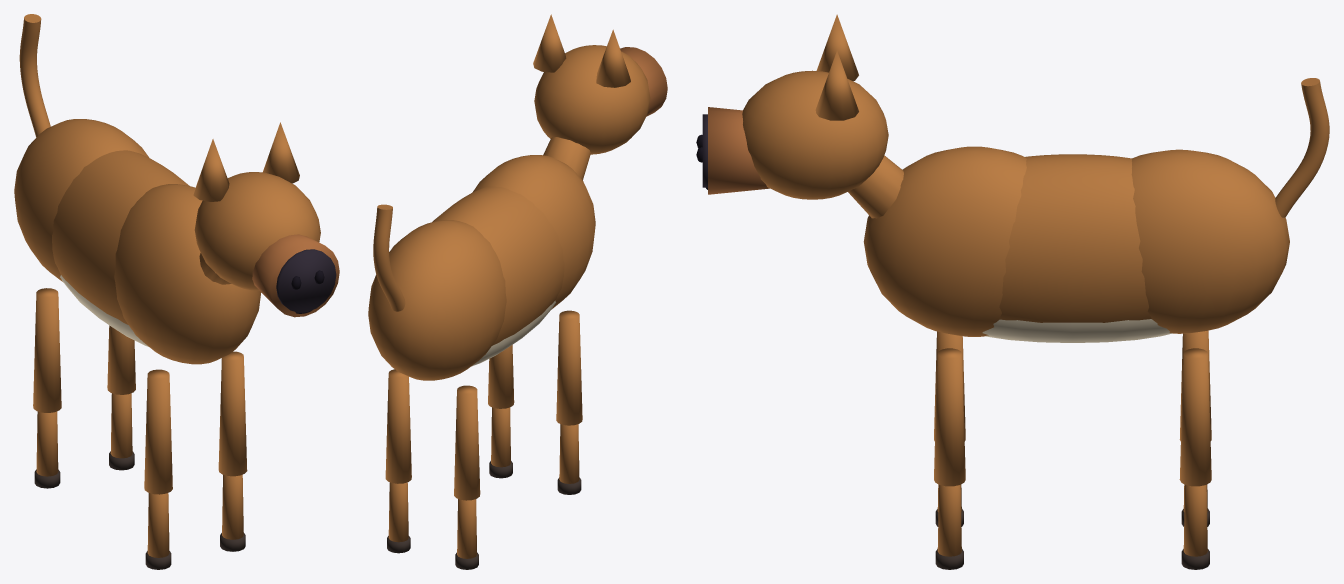
File: deer.glb
3 renders of one model, left to right at view 1: azimuth 30°, elevation 25°; view 2: azimuth 150°, elevation 25°; view 3: azimuth 270°, elevation 25°, orthographic. The views are drawn at different scales.
Parts seen in each view (by area): view 1: body, head, legFR, legBR, legFL, legBL, tail, earR, earL; view 2: body, head, legFR, legBR, legBL, legFL, tail, earR, earL; view 3: body, head, legBL, legFL, tail, earL, earR, legBR, legFR.
Part boxes in pixels (bbox=[...]): body: bbox=[14, 119, 261, 364]; head: bbox=[194, 172, 339, 317]; legFR: bbox=[144, 369, 172, 569]; legBR: bbox=[33, 288, 61, 488]; legFL: bbox=[218, 351, 247, 551]; legBL: bbox=[107, 325, 135, 470]; tail: bbox=[19, 14, 50, 137]; earR: bbox=[193, 139, 229, 201]; earL: bbox=[263, 122, 299, 183]; body: bbox=[368, 137, 595, 380]; head: bbox=[534, 45, 667, 154]; legFR: bbox=[556, 310, 582, 494]; legBR: bbox=[454, 385, 480, 569]; legBL: bbox=[385, 369, 411, 553]; legFL: bbox=[488, 345, 514, 478]; tail: bbox=[373, 204, 405, 311]; earR: bbox=[596, 29, 630, 87]; earL: bbox=[533, 14, 566, 72]; body: bbox=[848, 146, 1289, 342]; head: bbox=[696, 70, 888, 199]; legBL: bbox=[1179, 348, 1211, 569]; legFL: bbox=[934, 348, 965, 569]; tail: bbox=[1275, 78, 1329, 217]; earL: bbox=[815, 51, 858, 120]; earR: bbox=[816, 14, 858, 81]; legBR: bbox=[1179, 330, 1211, 526]; legFR: bbox=[934, 331, 965, 526].
Bounding box in the file's own units: 0.56 × 2.07 × 2.32.
